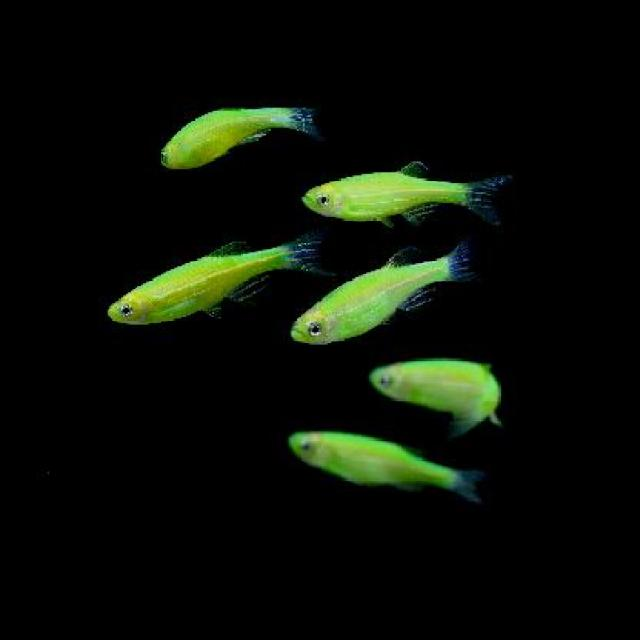ZebraFish: (103, 224, 328, 324), (290, 230, 479, 344), (304, 159, 511, 223)
